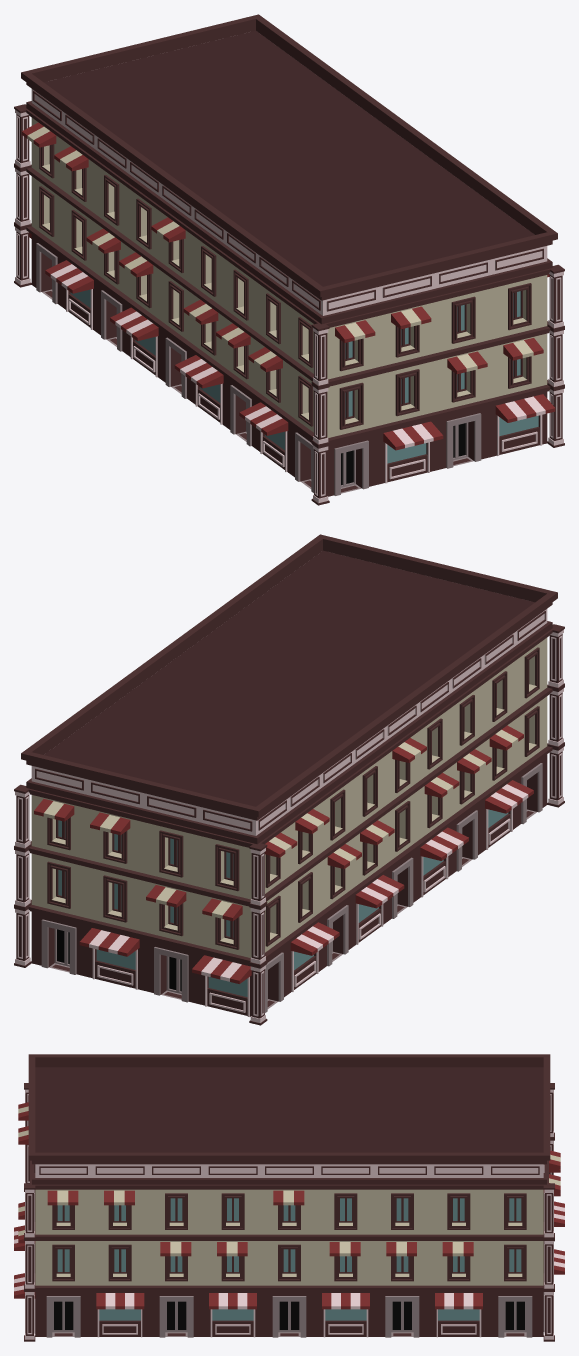
3 views of the same model, one above another, from view 1: azimuth 30°, elevation 25°; view 2: azimuth 150°, elevation 25°; view 3: azimuth 270°, elevation 25° (orthographic). The views are drawn at different scales.
Visible parts, largest first — view 1: Procedural Building; view 2: Procedural Building; view 3: Procedural Building.
Part boxes in pixels (x1,y1,x2,y2): Procedural Building: [14, 14, 564, 505]; Procedural Building: [14, 534, 564, 1025]; Procedural Building: [14, 1054, 564, 1341].
Size of the model in its own units: 476 by 360 by 976.
